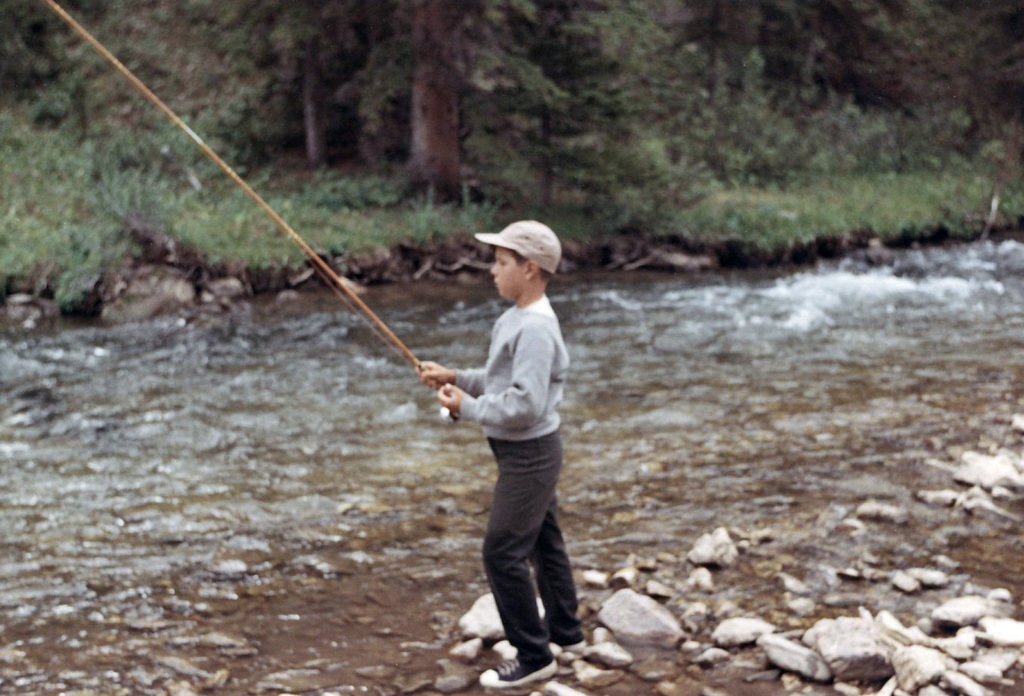Person: (415, 219, 586, 686)
